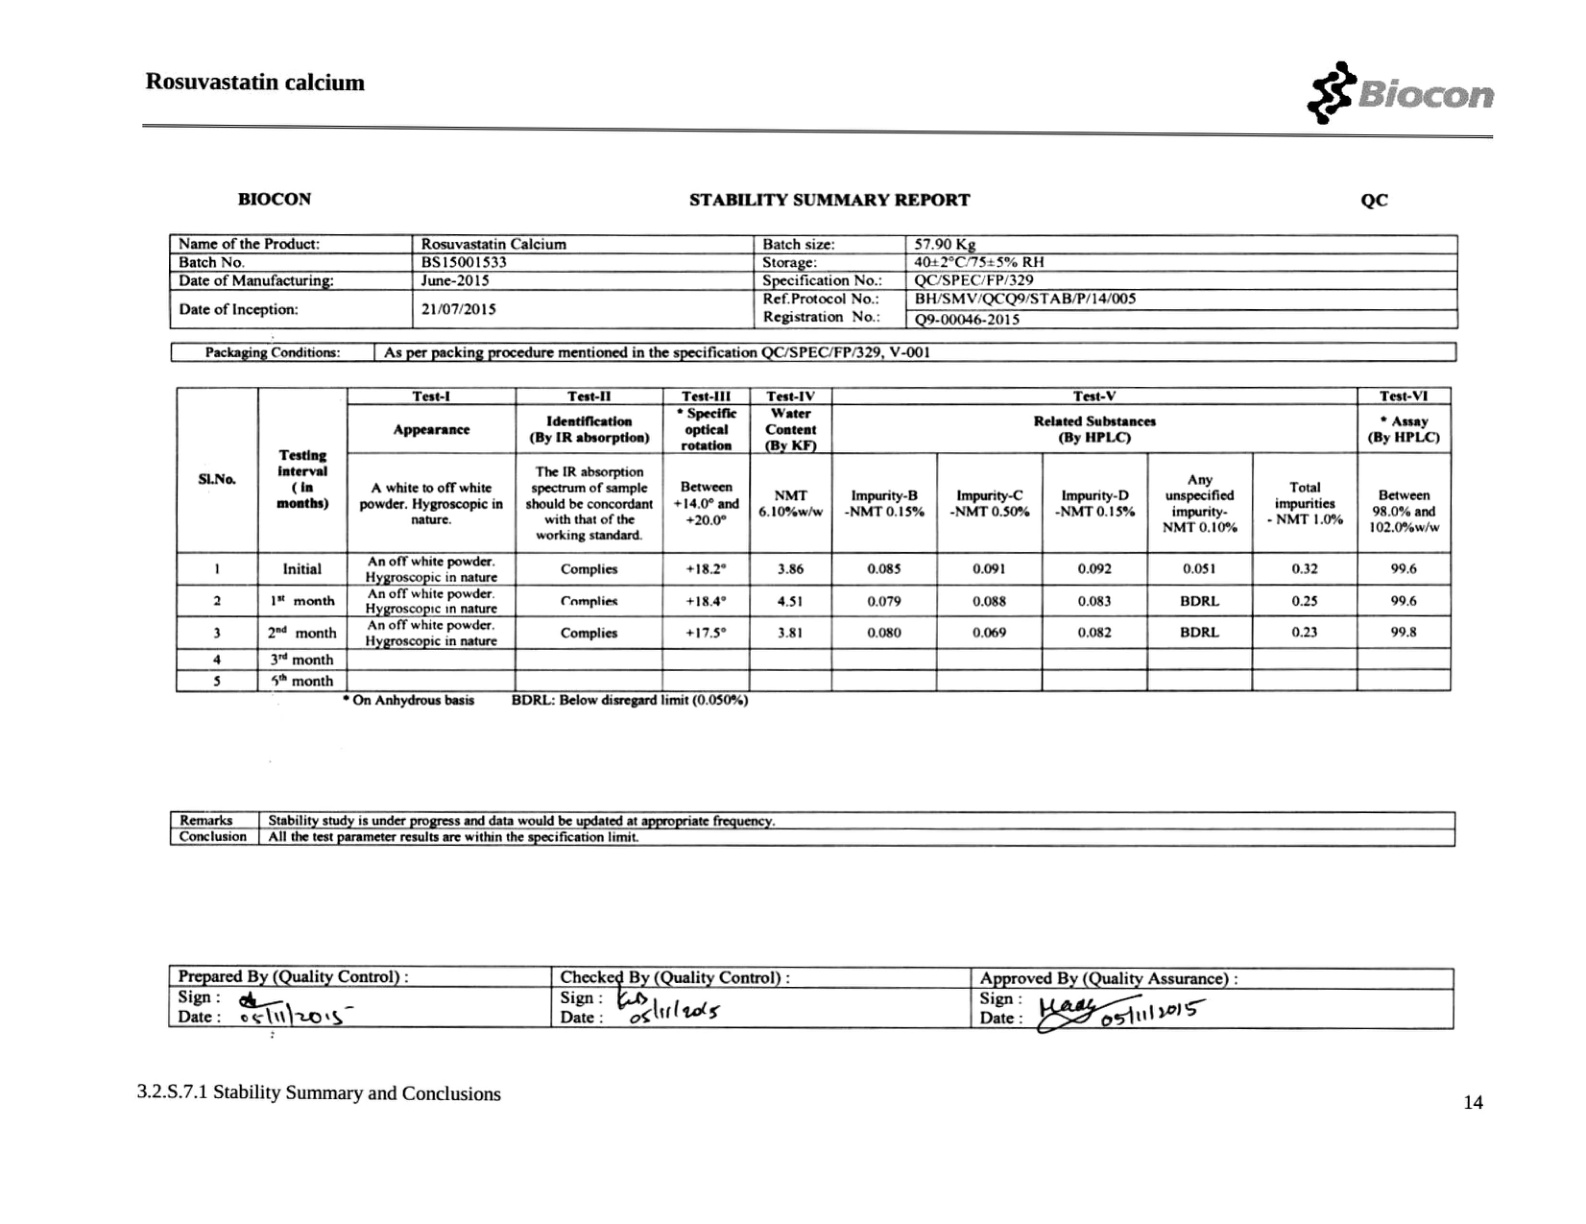full_lined: (168, 809, 1457, 849), (170, 339, 1457, 363)
merged_cells: (174, 384, 1454, 692), (168, 231, 1459, 329), (168, 963, 1456, 1030)
